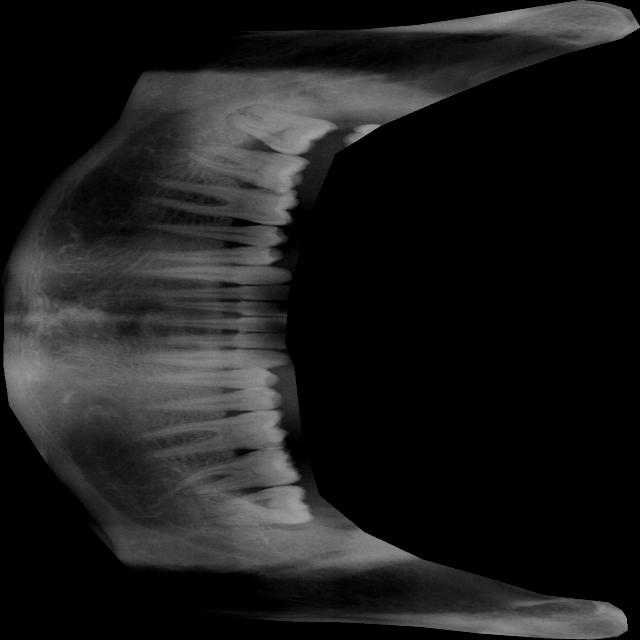mandibula: (0, 0, 640, 640)
